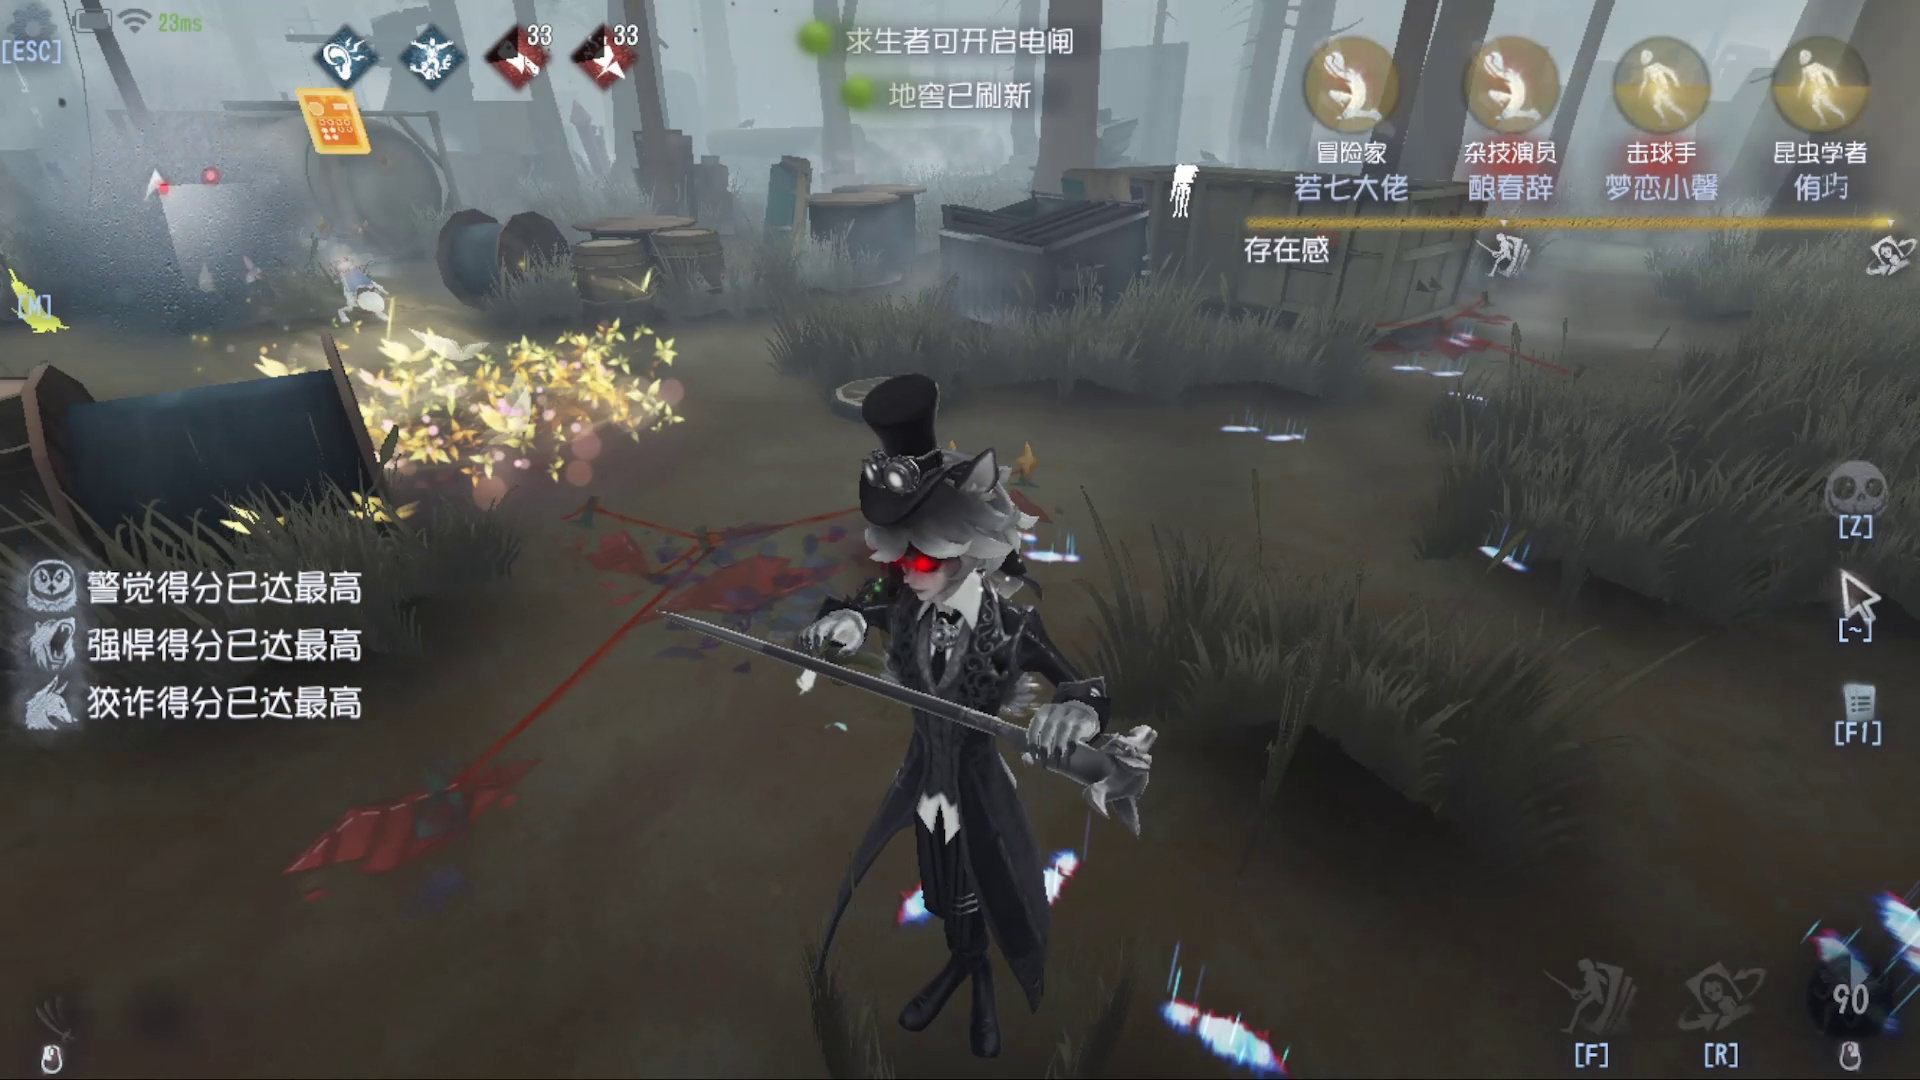木板: (715, 146, 822, 316)
求生者: (305, 237, 402, 338)
脚印: (491, 444, 837, 704), (1408, 305, 1557, 394)
